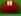brown: (0, 0, 21, 16)
